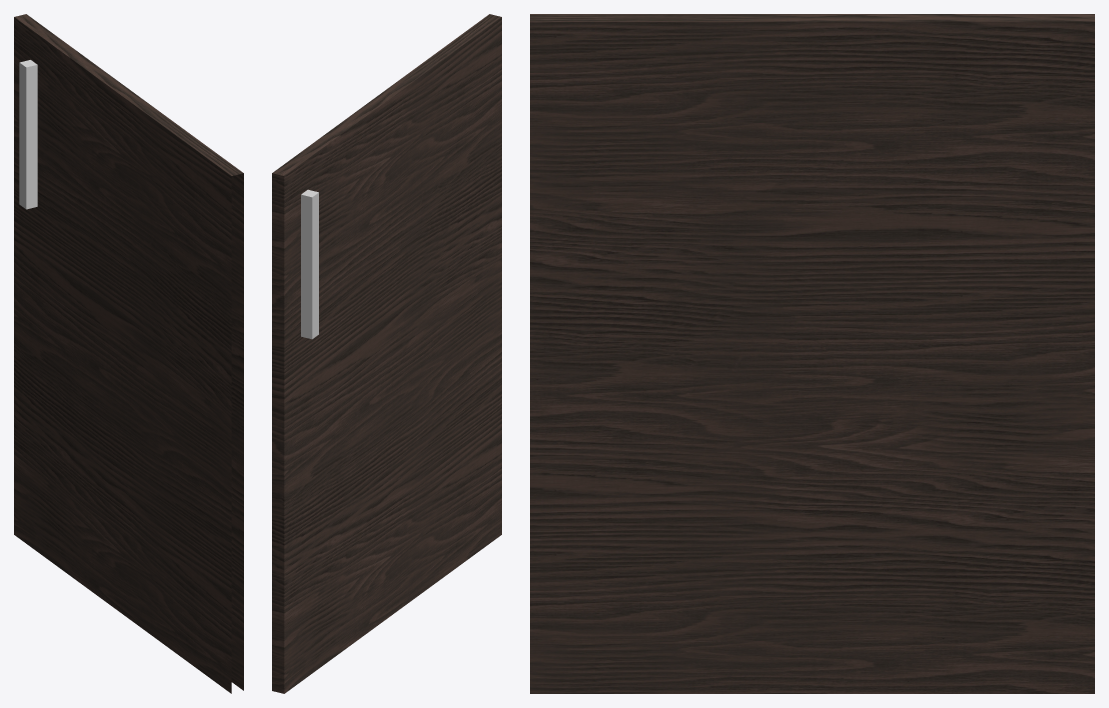
The model's file is desk_door.glb.
3 views of the same model, side by side, from view 1: azimuth 30°, elevation 25°; view 2: azimuth 150°, elevation 25°; view 3: azimuth 270°, elevation 25° (orthographic). The views are drawn at different scales.
Parts seen in each view (by area): view 1: Desk; view 2: Desk; view 3: Desk.
Boxes of the visible parts, x1,y1,x2,y2 form: Desk: [14, 14, 243, 693]; Desk: [272, 14, 501, 693]; Desk: [530, 14, 1094, 693].
Bounding box in the file's own units: 0.0341 × 0.7163 × 0.5454.
Materials: 2 (1 with a texture image).
